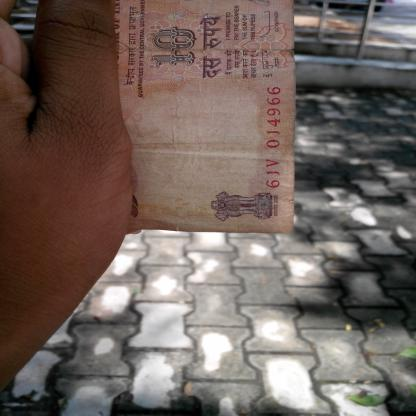Old10Front: (110, 0, 296, 232)
